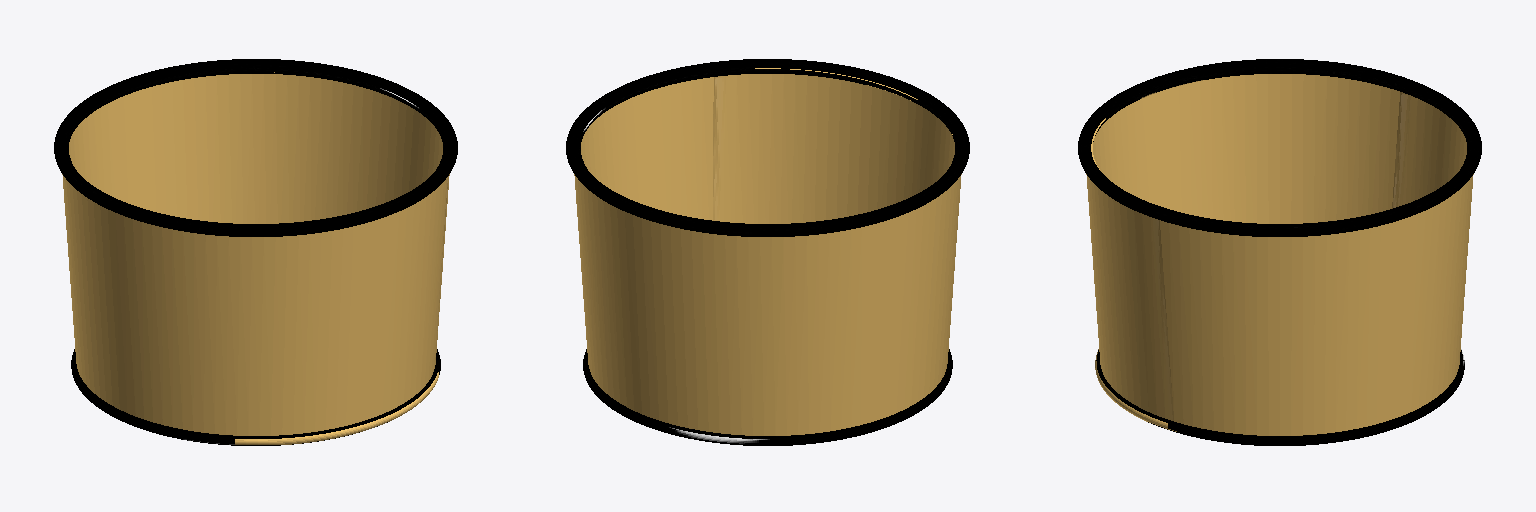
3 renders of one model, left to right at view 1: azimuth 30°, elevation 25°; view 2: azimuth 150°, elevation 25°; view 3: azimuth 270°, elevation 25°, orthographic.
Parts seen in each view (by area): view 1: bucket; view 2: bucket; view 3: bucket.
Boxes of the visible parts, x1,y1,x2,y2 form: bucket: [54, 59, 457, 445]; bucket: [566, 59, 969, 445]; bucket: [1078, 59, 1481, 445].
Size of the model in its own units: 0.2532 by 0.1575 by 0.2532.
1 materials, 1 textured.